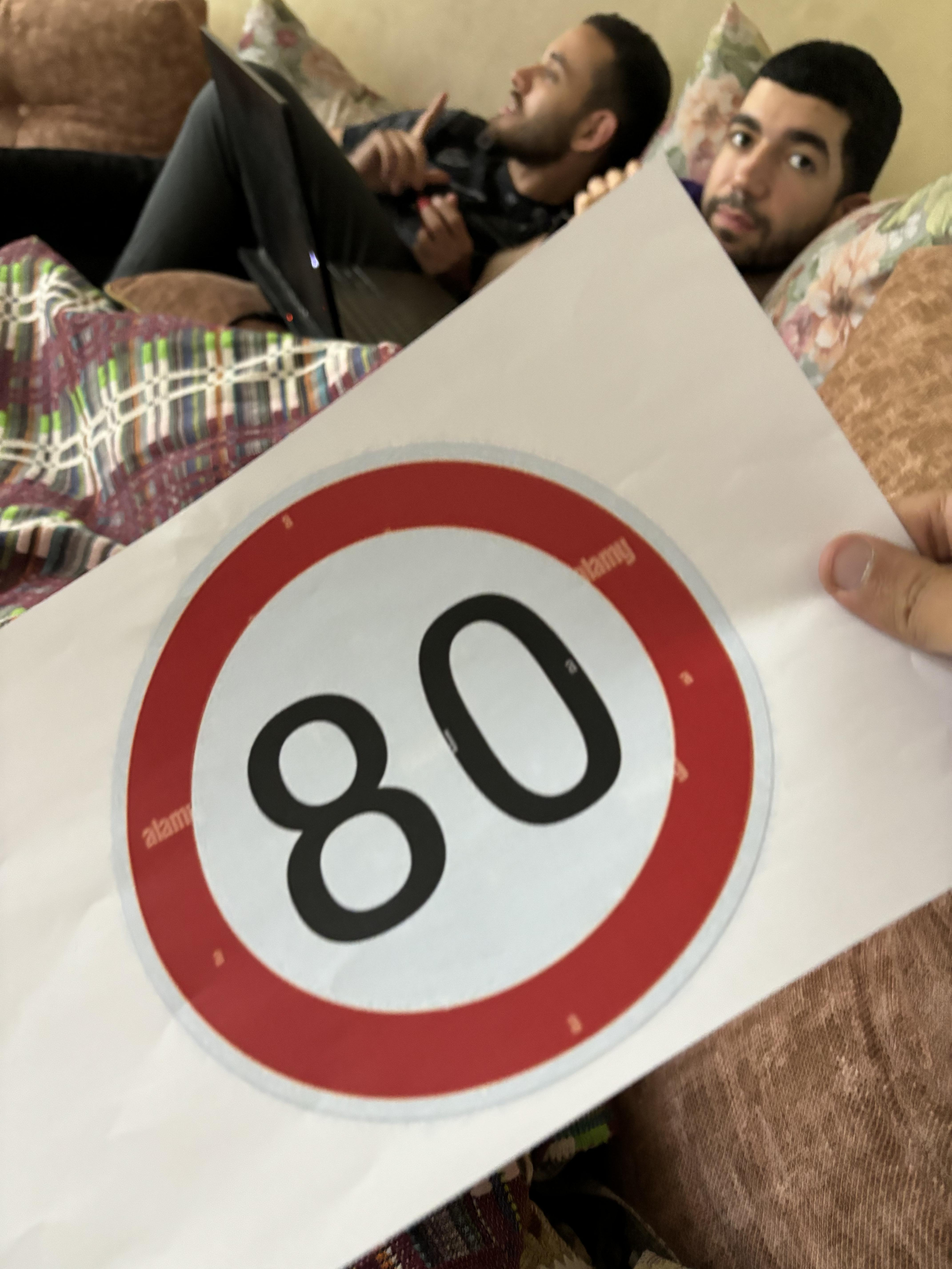80-Speed: (118, 436, 767, 1126)
